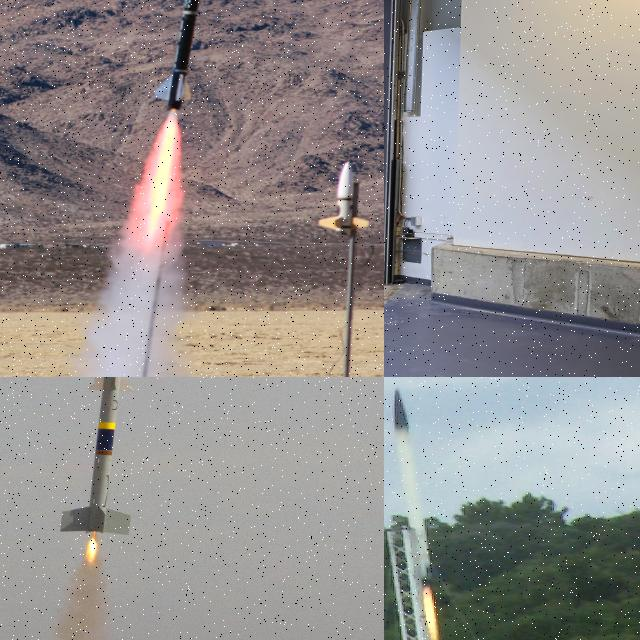Rocket: (57, 377, 133, 535), (390, 388, 438, 586), (155, 0, 212, 112), (317, 160, 371, 236)
